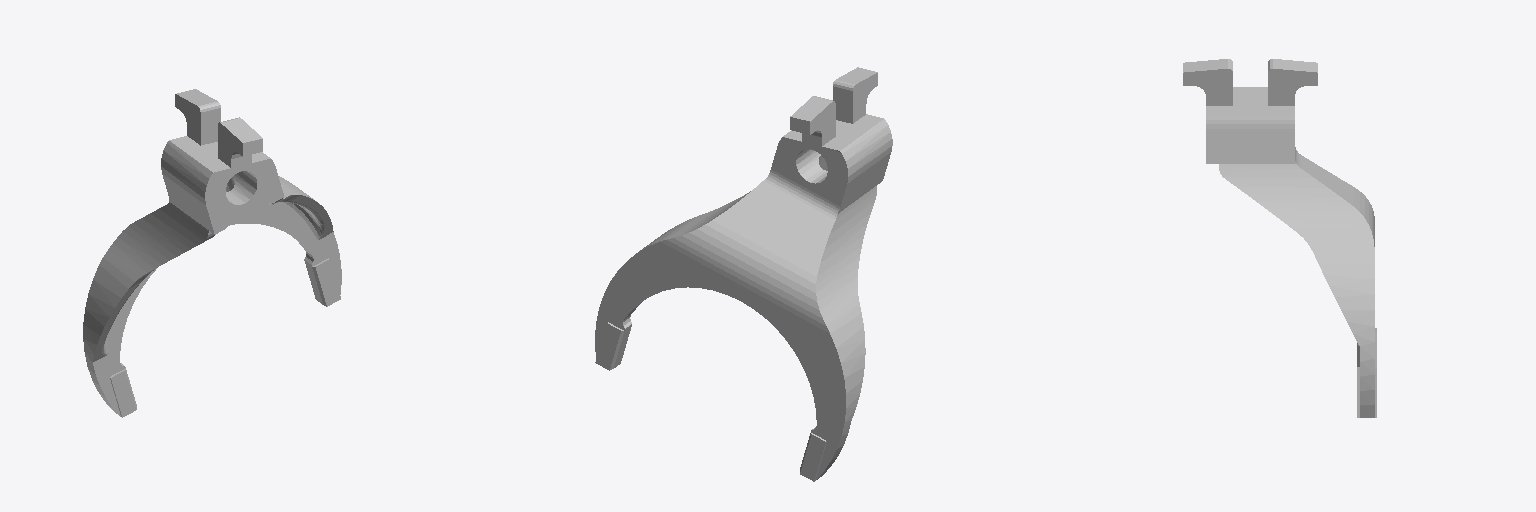
File: 78. Вилка третьей и четвертой передачи.obj
3 renders of one model, left to right at view 1: azimuth 30°, elevation 25°; view 2: azimuth 150°, elevation 25°; view 3: azimuth 270°, elevation 25°, orthographic.
Parts seen in each view (by area): view 1: Твердое тело1; view 2: Твердое тело1; view 3: Твердое тело1.
Boxes of the visible parts, box(x1,y1,x2,y2) form: Твердое тело1: box(83, 89, 341, 417); Твердое тело1: box(595, 67, 892, 481); Твердое тело1: box(1183, 59, 1376, 417).
Bounding box in the file's own units: 118 × 150 × 79.